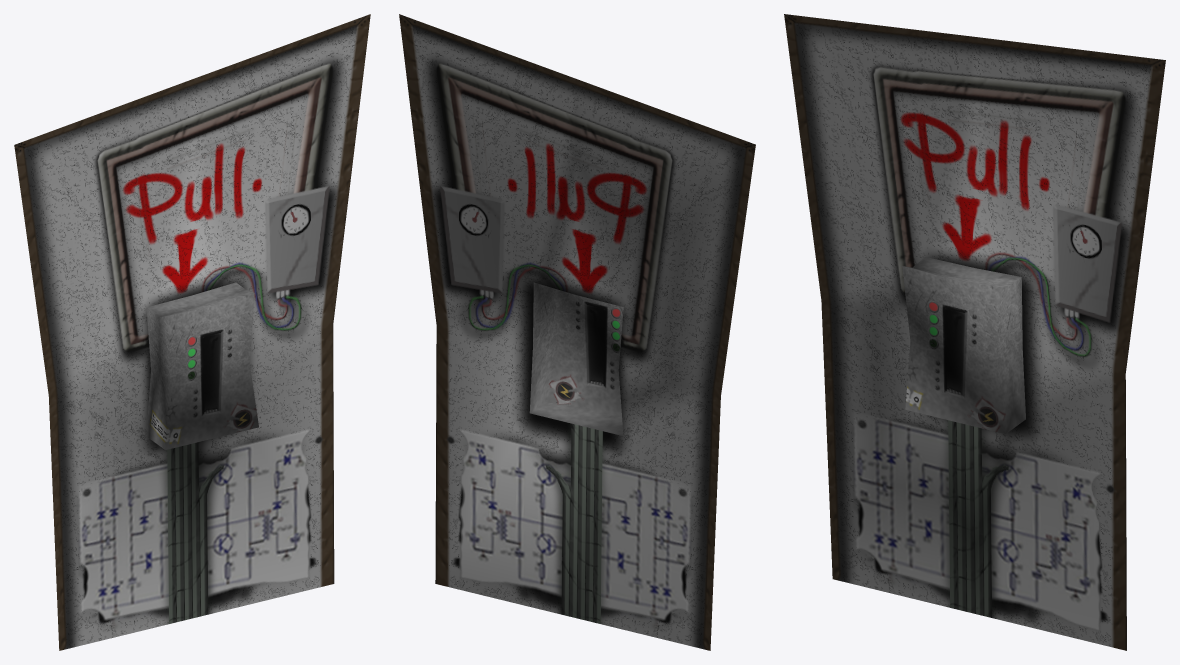
File: SwitchPanel.FBX
3 renders of one model, left to right at view 1: azimuth 30°, elevation 25°; view 2: azimuth 150°, elevation 25°; view 3: azimuth 330°, elevation 25°, orthographic. The views are drawn at different scales.
Visible parts, largest first — view 1: SwitchPanel; view 2: SwitchPanel; view 3: SwitchPanel.
Boxes of the visible parts, bbox=[...] form: SwitchPanel: bbox=[14, 14, 370, 650]; SwitchPanel: bbox=[399, 14, 755, 650]; SwitchPanel: bbox=[784, 14, 1165, 650].
Size of the model in its own units: 69.58 by 105 by 7.4.
